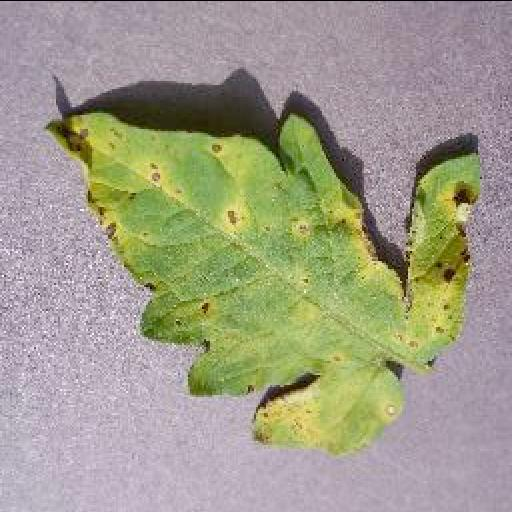disease_tomato: (48, 101, 486, 450)
